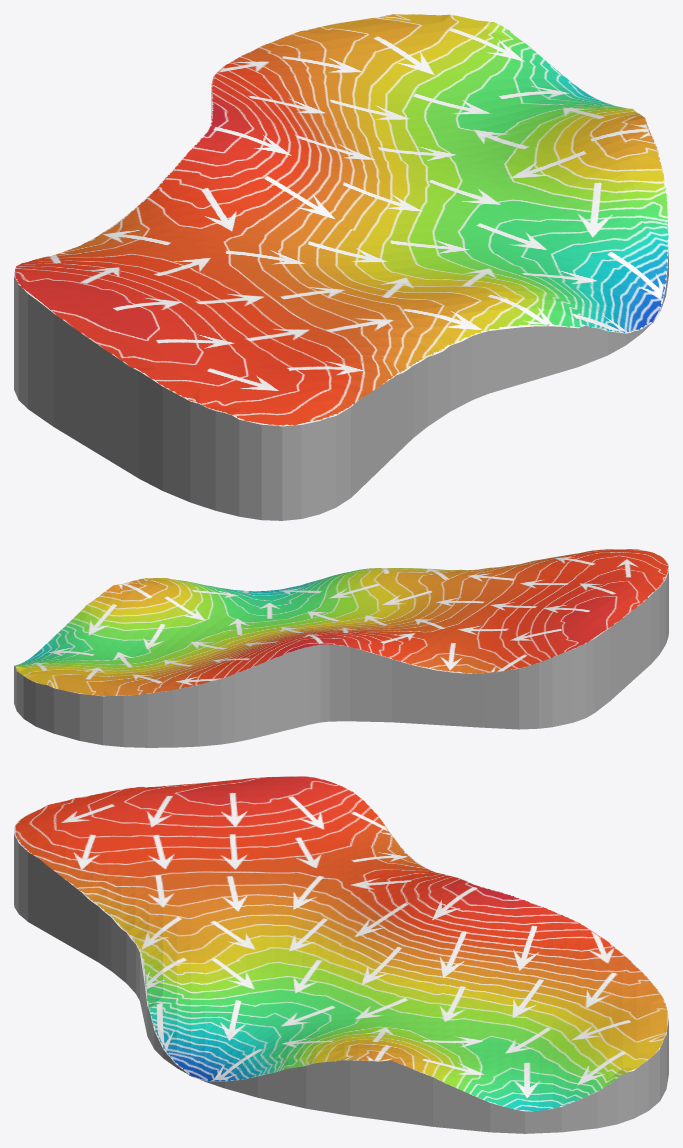
3 renders of one model, top to bottom at view 1: azimuth 30°, elevation 25°; view 2: azimuth 150°, elevation 25°; view 3: azimuth 270°, elevation 25°, orthographic. The views are drawn at different scales.
Size of the model in its own units: 4.33 by 0.704 by 4.46.
Materials: 2 (1 with a texture image).
